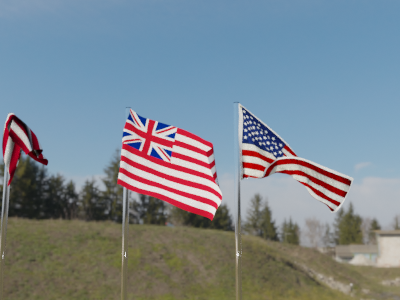America flag: (238, 106, 355, 212)
Liberia flag: (4, 111, 47, 186)
Malaysia flag: (117, 110, 225, 221)
